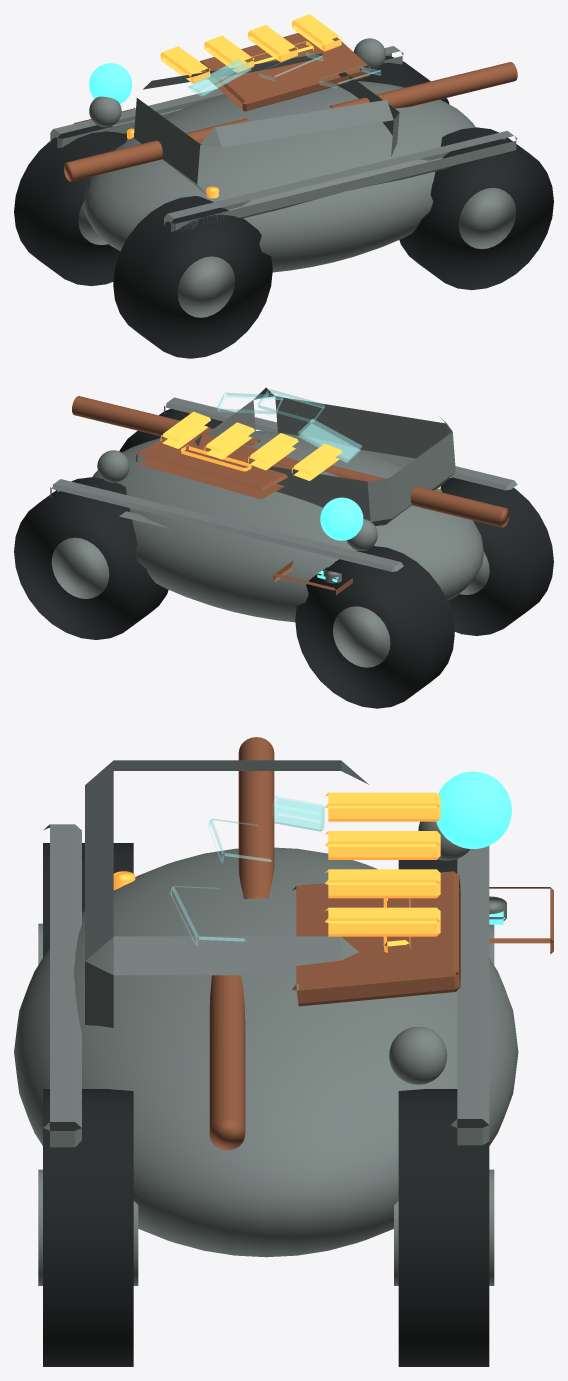
File: salvage.gltf
The picture shows the model from 3 angles, top to bottom: view 1: azimuth 30°, elevation 25°; view 2: azimuth 150°, elevation 25°; view 3: azimuth 270°, elevation 25°; orthographic projection. The views are drawn at different scales.
Visible parts, largest first — view 1: WreckChassis, WheelLB, WheelRB, WheelLF, WreckCabin, WreckChassisRailRear, WreckCabinPanel, WreckPipeRight, WheelHubLB, WheelHubRB, WreckPipeLeft, WreckChassisRailFront (+10 smaller); view 2: WreckChassis, WheelLF, WheelRF, WreckCabin, WheelLB, WreckChassisRailFront, WreckCabinPanel, WheelHubLF, WheelHubRF, WreckPipeLeft, WreckPipeRight, WreckChassisRailRear (+14 smaller); view 3: WreckChassis, WheelRF, WheelRB, WreckCabin, WreckCabinPanel, WreckChassisRailRear, WreckChassisRailFront, WreckPipeRight, WreckPipeLeft, WreckStatusLens, WreckHazardStripe00, WreckHazardStripe02 (+7 smaller).
Boxes of the visible parts, left/top/right/bottom form: WreckChassis: left=84, top=81, right=475, bottom=272; WheelLB: left=113, top=196, right=272, bottom=358; WheelRB: left=399, top=127, right=553, bottom=290; WheelLF: left=14, top=125, right=127, bottom=286; WreckCabin: left=134, top=53, right=399, bottom=195; WreckChassisRailRear: left=164, top=130, right=517, bottom=232; WreckCabinPanel: left=200, top=33, right=370, bottom=111; WreckPipeRight: left=329, top=62, right=517, bottom=108; WheelHubLB: left=177, top=256, right=234, bottom=317; WheelHubRB: left=458, top=188, right=516, bottom=249; WreckPipeLeft: left=64, top=118, right=250, bottom=181; WreckChassisRailFront: left=50, top=46, right=403, bottom=148; WreckChassis: left=92, top=430, right=483, bottom=622; WheelLF: left=295, top=546, right=454, bottom=708; WheelRF: left=14, top=477, right=168, bottom=639; WreckCabin: left=195, top=387, right=455, bottom=525; WheelLB: left=440, top=477, right=553, bottom=635; WreckChassisRailFront: left=50, top=479, right=403, bottom=571; WreckCabinPanel: left=136, top=433, right=300, bottom=499; WheelHubLF: left=333, top=606, right=390, bottom=667; WheelHubRF: left=51, top=537, right=109, bottom=598; WreckPipeLeft: left=324, top=465, right=509, bottom=527; WreckPipeRight: left=72, top=396, right=260, bottom=445; WreckChassisRailRear: left=164, top=397, right=517, bottom=490; WreckChassis: left=14, top=847, right=518, bottom=1257; WheelRF: left=398, top=1089, right=489, bottom=1366; WheelRB: left=43, top=1089, right=133, bottom=1366; WreckCabin: left=85, top=760, right=368, bottom=1027; WreckCabinPanel: left=292, top=871, right=460, bottom=1006; WreckChassisRailRear: left=43, top=824, right=81, bottom=1147; WreckChassisRailFront: left=451, top=846, right=489, bottom=1145; WreckPipeRight: left=209, top=975, right=245, bottom=1150; WreckPipeLeft: left=238, top=737, right=274, bottom=898; WreckStatusLens: left=436, top=771, right=511, bottom=848; WreckHazardStripe00: left=324, top=792, right=440, bottom=821; WreckHazardStripe02: left=324, top=869, right=440, bottom=898.
Size of the model in its own units: 2.79 by 1.37 by 1.67.
